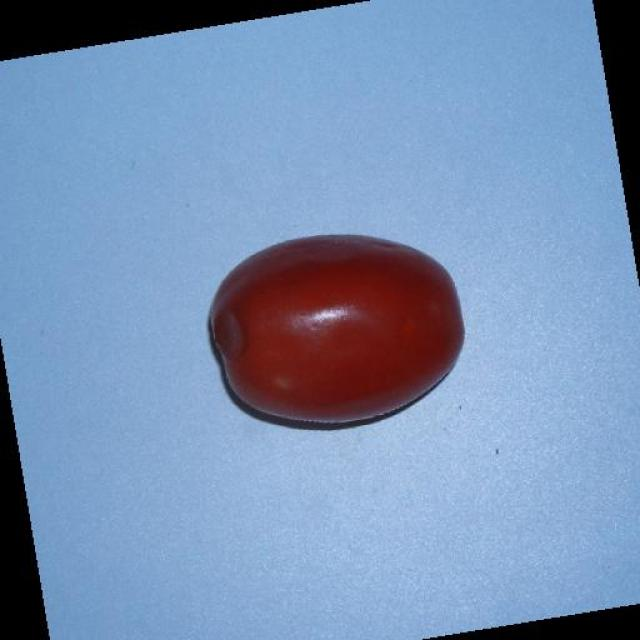Stale_tomato: (191, 240, 505, 468)
